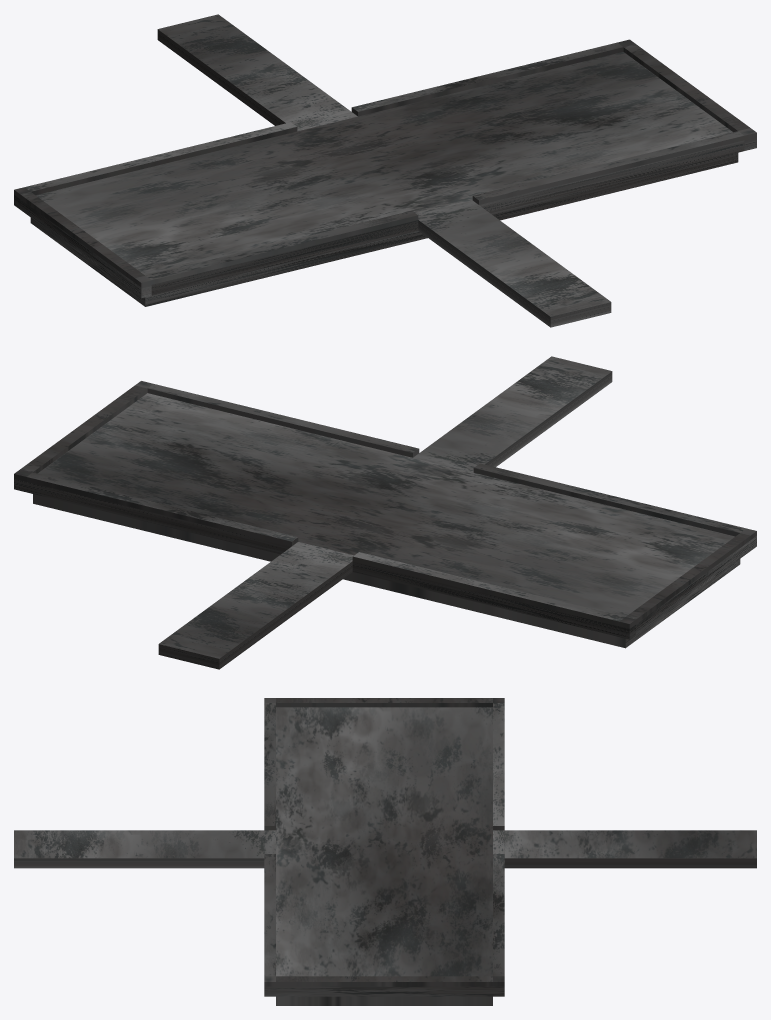
Rendered from plataforma3.fbx.
3 renders of one model, top to bottom at view 1: azimuth 30°, elevation 25°; view 2: azimuth 150°, elevation 25°; view 3: azimuth 270°, elevation 25°, orthographic. The views are drawn at different scales.
Visible parts, largest first — view 1: Cube; view 2: Cube; view 3: Cube.
Part boxes in pixels (bbox=[...]): Cube: bbox=[14, 14, 756, 327]; Cube: bbox=[14, 356, 756, 669]; Cube: bbox=[14, 698, 756, 1005].
Size of the model in its own units: 4137 by 201 by 4574.
1 material, 1 textured.
